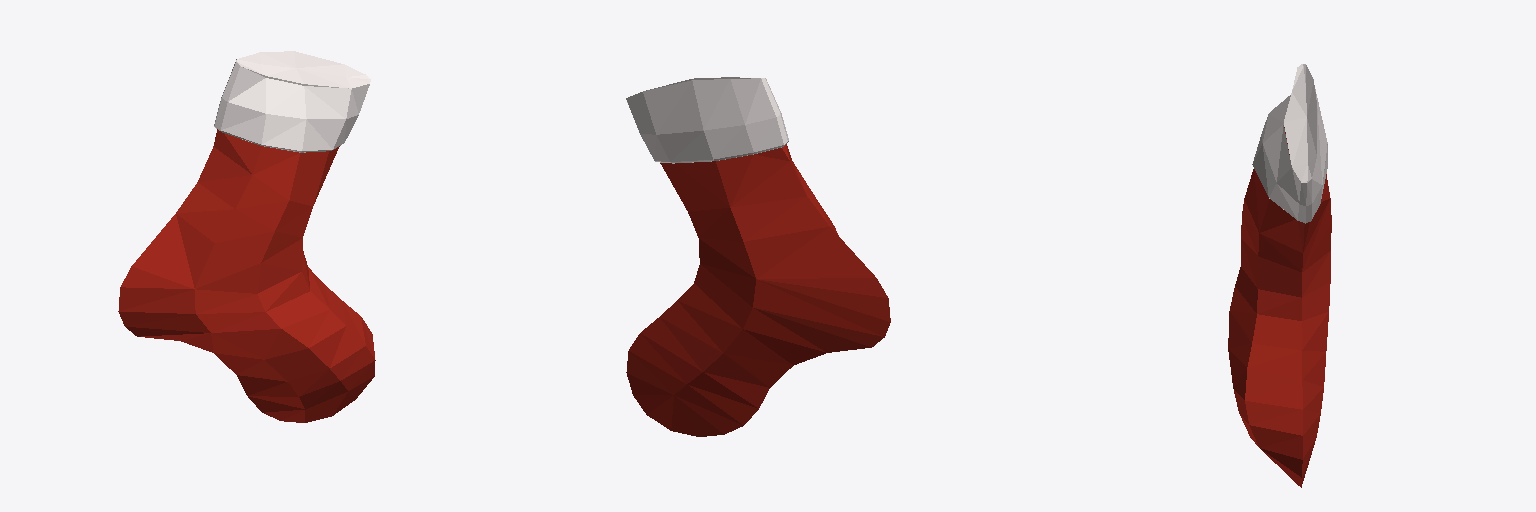
The picture shows the model from 3 angles: view 1: azimuth 30°, elevation 25°; view 2: azimuth 150°, elevation 25°; view 3: azimuth 270°, elevation 25°; orthographic projection.
Parts seen in each view (by area): view 1: polySurface1; view 2: polySurface1; view 3: polySurface1.
Boxes of the visible parts, <box> form: polySurface1: <box>118,51,375,422</box>; polySurface1: <box>626,77,890,436</box>; polySurface1: <box>1228,64,1331,487</box>.
Bounding box in the file's own units: 2.59 × 3.59 × 0.8938.
2 materials, 2 textured.